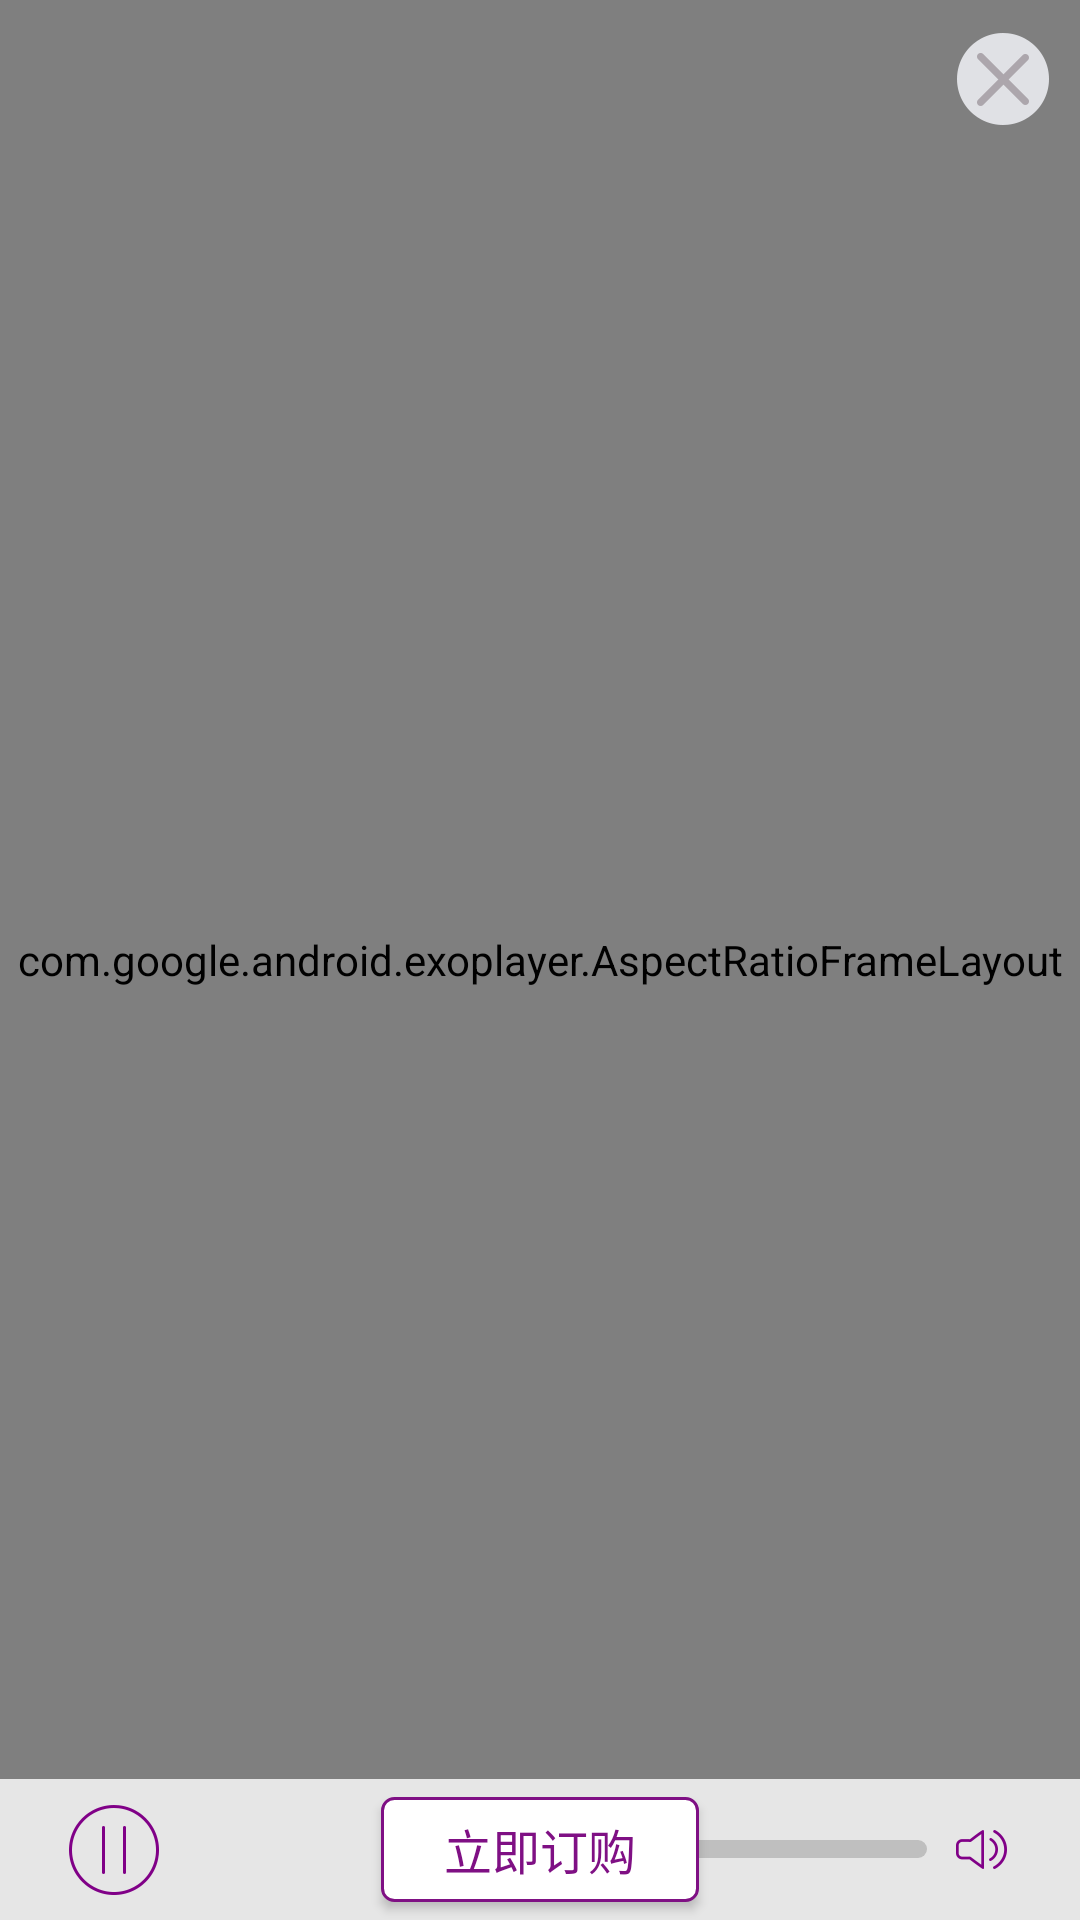

Point at icon controls on the screen. Image size 1080x1920, points as [x,y].
lottory close: [1003,79]
pause: [114,1850]
volume up: [981,1849]
